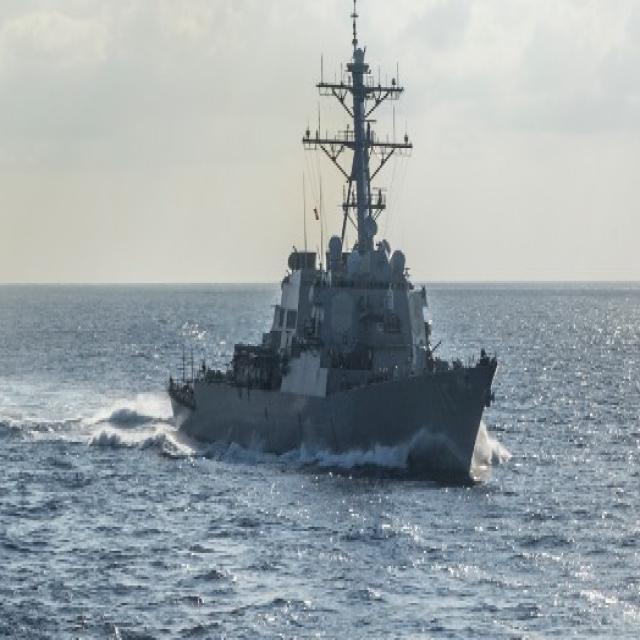navalvessels: (172, 0, 503, 485)
